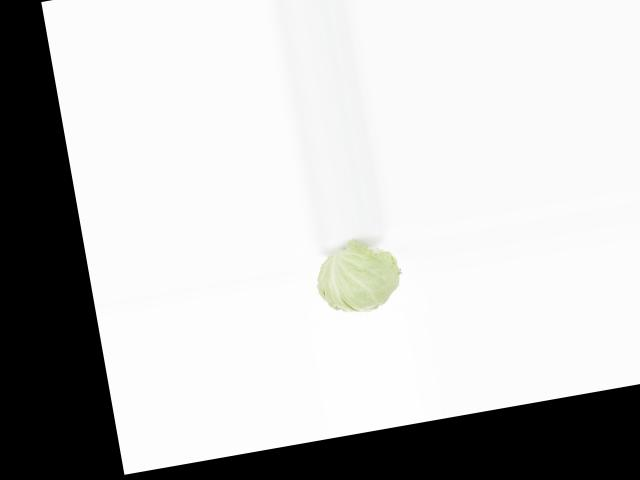lettuce: (307, 241, 409, 321)
